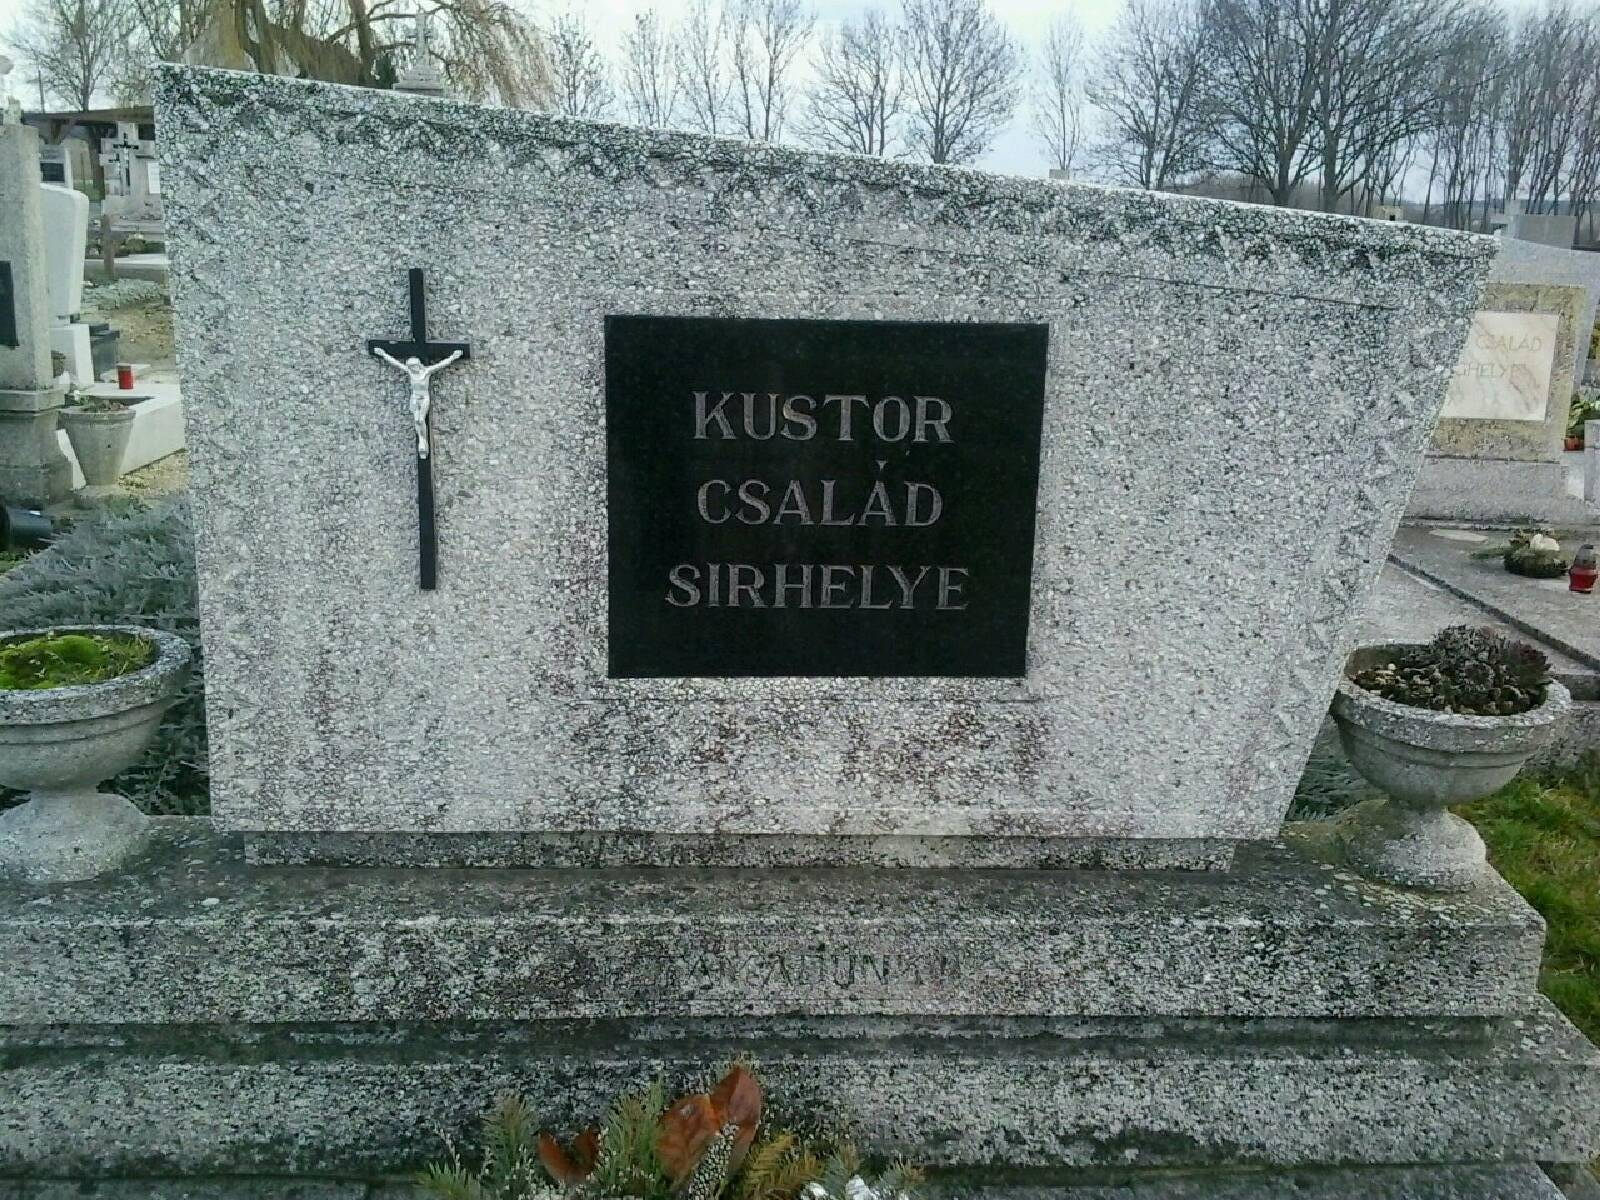upright: (26, 62, 1533, 1187)
